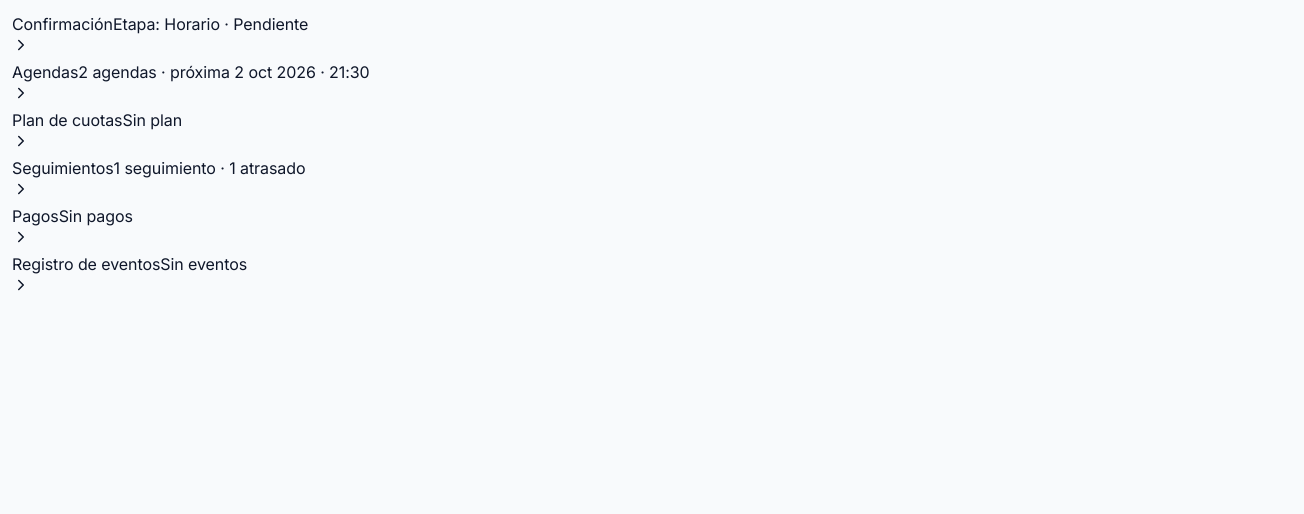
Test: los seguimientos del historial › si el backend rechaza el cambio de estado, vuelve a como estaba
Click the button "Seguimientos1 seguimiento · 1 atrasado". click: (159, 177)
box: [12,156,305,198]
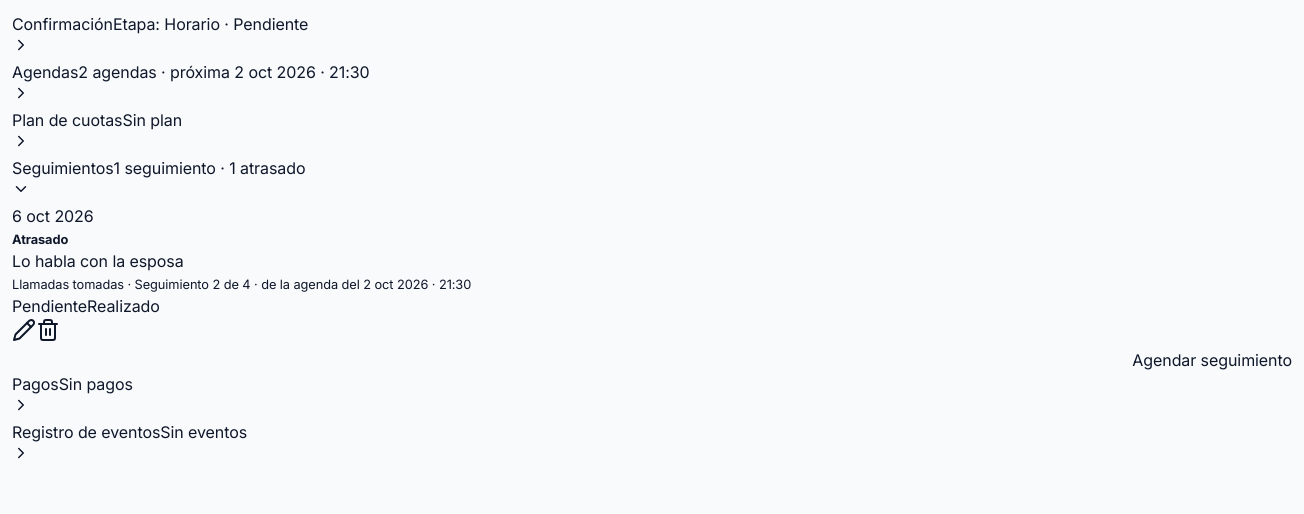
Click the button "Realizado". click: (124, 306)
box: [87,294,160,318]
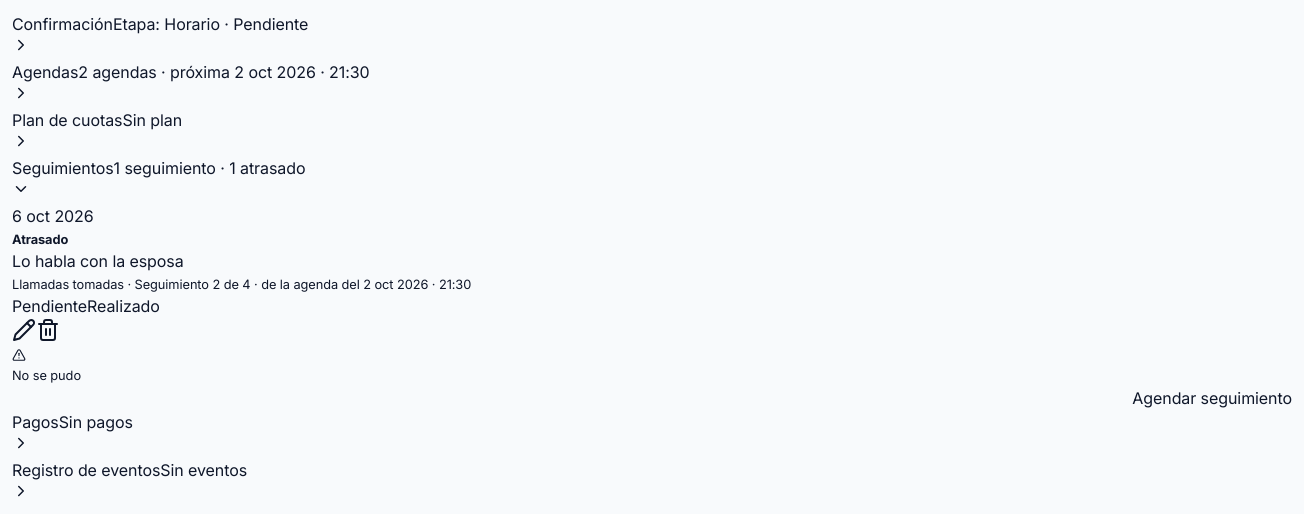
Check: the message reads "No se pudo", box [12,368,81,383]
